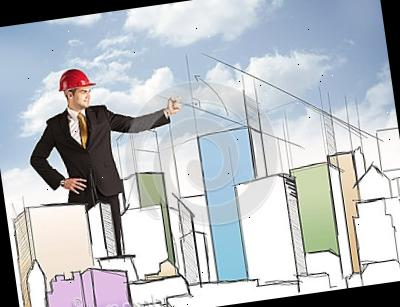helmet: (56, 64, 98, 94)
no_wear: (52, 102, 123, 202)
